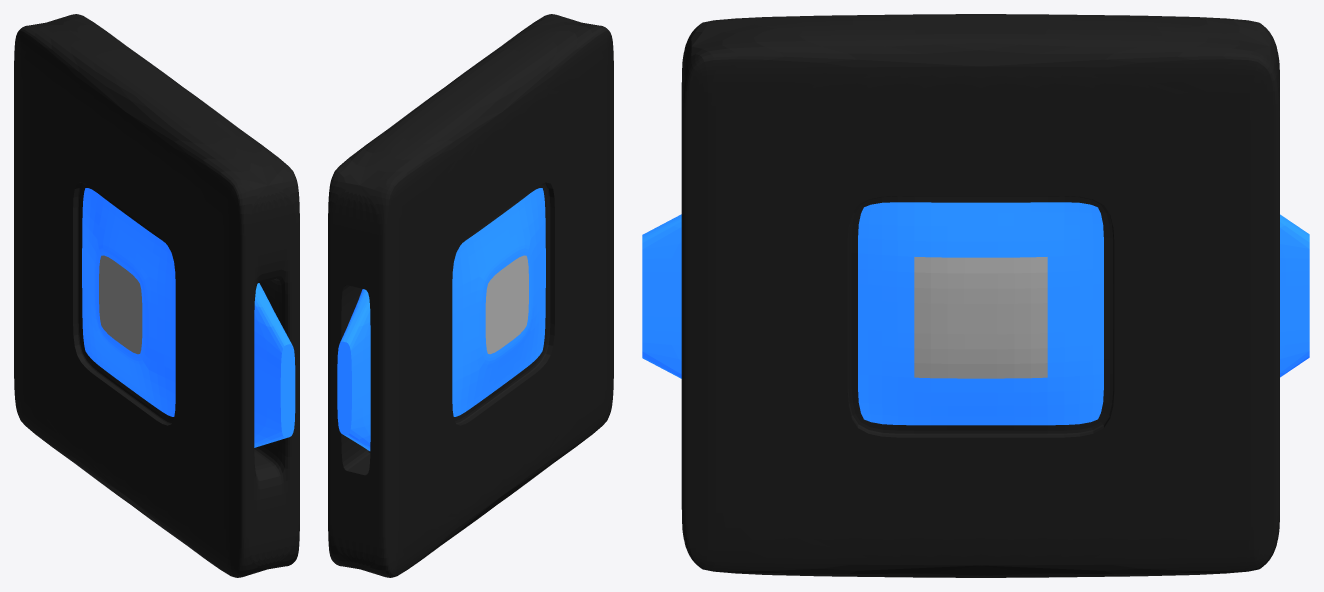
The model's file is wall.fbx.
3 renders of one model, left to right at view 1: azimuth 30°, elevation 25°; view 2: azimuth 150°, elevation 25°; view 3: azimuth 270°, elevation 25°, orthographic. The views are drawn at different scales.
Parts seen in each view (by area): view 1: Cube; view 2: Cube; view 3: Cube.
Part boxes in pixels (<box>): Cube: <box>14,14,299,577</box>; Cube: <box>328,14,613,577</box>; Cube: <box>642,14,1309,577</box>.
Bounding box in the file's own units: 117 × 641 × 715.
